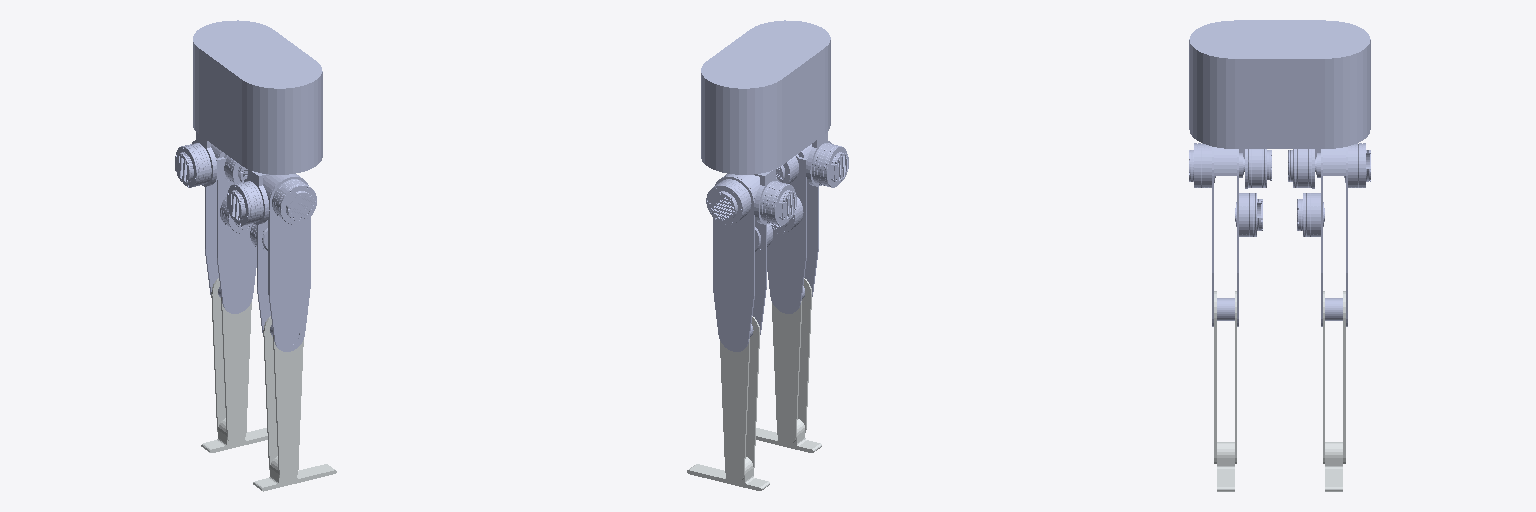
URDF robot description (leg7):
<?xml version="1.0" encoding="utf-8"?>
<!-- This URDF was automatically created by SolidWorks to URDF Exporter! Originally created by [author] ([email redacted]) 
     Commit Version: 1.6.0-4-g7f85cfe  Build Version: 1.6.7995.38578
     For more information, please see http://wiki.ros.org/sw_urdf_exporter -->
<robot
  name="leg7">
  <link
    name="base">
    <inertial>
      <origin
        xyz="-7.027E-14 -3.9404E-13 0.058682"
        rpy="0 0 0" />
      <mass
        value="8.0" />
      <inertia
        ixx="0.164672"
        ixy="0.000011"
        ixz="0"
        iyy="0.078139"
        iyz="0"
        izz="0.152254" />
    </inertial>
    <visual>
      <origin
        xyz="0 0 0"
        rpy="0 0 0" />
      <geometry>
        <mesh
          filename="meshes/base.STL" />
      </geometry>
      <material
        name="">
        <color
          rgba="0.79216 0.81961 0.93333 1" />
      </material>
    </visual>
    <collision>
      <origin
        xyz="0 0 0"
        rpy="0 0 0" />
      <geometry>
        <mesh
          filename="meshes/base.STL" />
      </geometry>
    </collision>
  </link>
  <link
    name="R_hip">
    <inertial>
      <origin
        xyz="-0.093816 -5.9543E-05 -0.064188"
        rpy="0 0 0" />
      <mass
        value="1.3589" />
      <inertia
        ixx="0.002069"
        ixy="-2.71E-06"
        ixz="-0.000414"
        iyy="0.00199"
        iyz="-2.6E-07"
        izz="0.0015048" />
    </inertial>
    <visual>
      <origin
        xyz="0 0 0"
        rpy="0 0 0" />
      <geometry>
        <mesh
          filename="meshes/R_hip.STL" />
      </geometry>
      <material
        name="">
        <color
          rgba="0.79216 0.81961 0.93333 1" />
      </material>
    </visual>
  </link>
  <joint
    name="R_hip_joint"
    type="revolute">
    <origin
      xyz="0 -0.12 -0.057"
      rpy="0 0 0" />
    <parent
      link="base" />
    <child
      link="R_hip" />
    <axis
      xyz="0 0 1" />
    <limit
      lower="-1.5"
      upper="1.5"
      effort="500"
      velocity="50" />
    <dynamics damping="0.0" friction="0.0" rotor_inertia="0.01188"/>
  </joint>
  <link
    name="R_hip2">
    <inertial>
      <origin
        xyz="0.05961 0.064582 5.875E-05"
        rpy="0 0 0" />
      <mass
        value="1.3256" />
      <inertia
        ixx="0.001232"
        ixy="-0.00022"
        ixz="-1E-06"
        iyy="0.001819"
        iyz="-2E-06"
        izz="0.001515" />
    </inertial>
    <visual>
      <origin
        xyz="0 0 0"
        rpy="0 0 0" />
      <geometry>
        <mesh
          filename="meshes/R_hip2.STL" />
      </geometry>
      <material
        name="">
        <color
          rgba="0.79216 0.81961 0.93333 1" />
      </material>
    </visual>
  </link>
  <joint
    name="R_hip2_joint"
    type="revolute">
    <origin
      xyz="-0.0633 0 -0.07"
      rpy="0 0 0" />
    <parent
      link="R_hip" />
    <child
      link="R_hip2" />
    <axis
      xyz="1 0 0" />
    <limit
      lower="-1"
      upper="0.5"
      effort="500"
      velocity="50" />
    <dynamics damping="0.0" friction="0.0" rotor_inertia="0.01188"/>
  </joint>
  <link
    name="R_thigh">
    <inertial>
      <origin
        xyz="1.4759E-14 -0.00035614 -0.11733"
        rpy="0 0 0" />
      <mass
        value="3.3" />
      <inertia
        ixx="0.054972"
        ixy="7E-06"
        ixz="-5E-06"
        iyy="0.05152"
        iyz="0.005096"
        izz="0.007973" />
    </inertial>
    <visual>
      <origin
        xyz="0 0 0"
        rpy="0 0 0" />
      <geometry>
        <mesh
          filename="meshes/R_thigh.STL" />
      </geometry>
      <material
        name="">
        <color
          rgba="0.79216 0.81961 0.93333 1" />
      </material>
    </visual>
        <collision>
      <origin
        xyz="0 0 0"
        rpy="0 0 0" />
      <geometry>
        <mesh
          filename="meshes/R_thigh.STL" />
      </geometry>
    </collision>
  </link>
  <joint
    name="R_thigh_joint"
    type="revolute">
    <origin
      xyz="0.0633 0 0"
      rpy="0 0 0" />
    <parent
      link="R_hip2" />
    <child
      link="R_thigh" />
    <axis
      xyz="0 1 0" />
    <limit
      lower="-1.7"
      upper="0"
      effort="500"
      velocity="50" />
    <dynamics damping="0.0" friction="0.0" rotor_inertia="0.0198"/>
  </joint>
  <link
    name="R_calf">
    <inertial>
      <origin
        xyz="0 0 -0.18354"
        rpy="0 0 0" />
      <mass
        value="0.75" />
      <inertia
        ixx="0.010955"
        ixy="0"
        ixz="0"
        iyy="0.010865"
        iyz="0"
        izz="0.000614" />
    </inertial>
    <visual>
      <origin
        xyz="0 0 0"
        rpy="0 0 0" />
      <geometry>
        <mesh
          filename="meshes/R_calf.STL" />
      </geometry>
      <material
        name="">
        <color
          rgba="0.89804 0.91765 0.92941 1" />
      </material>
    </visual>
    <collision>
      <origin
        xyz="0 0 0"
        rpy="0 0 0" />
      <geometry>
        <mesh
          filename="meshes/R_calf.STL" />
      </geometry>
    </collision>
  </link>
  <joint
    name="R_calf_joint"
    type="revolute">
    <origin
      xyz="0 0 -0.35"
      rpy="0 0 0" />
    <parent
      link="R_thigh" />
    <child
      link="R_calf" />
    <axis
      xyz="0 1 0" />
    <limit
      lower="0"
      upper="2"
      effort="500"
      velocity="50" />
    <dynamics damping="0.0" friction="0.0" rotor_inertia="0.0792"/>
  </joint>
  <link
    name="R_toe">
    <inertial>
      <origin
        xyz="0.016891 0 -0.018446"
        rpy="0 0 0" />
      <mass
        value="0.4" />
      <inertia
        ixx="0.000165"
        ixy="0"
        ixz="0.000078"
        iyy="0.000979"
        iyz="0"
        izz="0.000920" />
    </inertial>
    <visual>
      <origin
        xyz="0 0 0"
        rpy="0 0 0" />
      <geometry>
        <mesh
          filename="meshes/R_toe.STL" />
      </geometry>
      <material
        name="">
        <color
          rgba="0.89804 0.91765 0.92941 1" />
      </material>
    </visual>
    <collision>
      <origin
        xyz="0 0 0"
        rpy="0 0 0" />
      <geometry>
        <mesh
          filename="meshes/R_toe.STL" />
      </geometry>
    </collision>
  </link>
  <joint
    name="R_toe_joint"
    type="revolute">
    <origin
      xyz="0 0 -0.35"
      rpy="0 0 0" />
    <parent
      link="R_calf" />
    <child
      link="R_toe" />
    <axis
      xyz="0 1 0" />
    <limit
      lower="-0.8"
      upper="0.8"
      effort="500"
      velocity="50" />
    <dynamics damping="0.0" friction="0.0" rotor_inertia="0.04752"/>
  </joint>
  <link
    name="L_hip">
    <inertial>
      <origin
        xyz="-0.093816 -5.9543E-05 -0.064188"
        rpy="0 0 0" />
      <mass
        value="1.3589" />
      <inertia
        ixx="0.002069"
        ixy="-2.71E-06"
        ixz="-0.000414"
        iyy="0.00199"
        iyz="-2.6E-07"
        izz="0.0015048" />
    </inertial>
    <visual>
      <origin
        xyz="0 0 0"
        rpy="0 0 0" />
      <geometry>
        <mesh
          filename="meshes/L_hip.STL" />
      </geometry>
      <material
        name="">
        <color
          rgba="0.79216 0.81961 0.93333 1" />
      </material>
    </visual>
  </link>
  <joint
    name="L_hip_joint"
    type="revolute">
    <origin
      xyz="0 0.12 -0.057"
      rpy="0 0 0" />
    <parent
      link="base" />
    <child
      link="L_hip" />
    <axis
      xyz="0 0 1" />
    <limit
      lower="-1.5"
      upper="1.5"
      effort="500"
      velocity="50" />
    <dynamics damping="0.0" friction="0.0" rotor_inertia="0.01188"/>
  </joint>
  <link
    name="L_hip2">
    <inertial>
      <origin
        xyz="0.059646 -0.064582 5.875E-05"
        rpy="0 0 0" />
      <mass
        value="1.3256" />
      <inertia
        ixx="0.001232"
        ixy="0.00022"
        ixz="6.3E-07"
        iyy="0.001819"
        iyz="2.44E-06"
        izz="0.001515" />
    </inertial>
    <visual>
      <origin
        xyz="0 0 0"
        rpy="0 0 0" />
      <geometry>
        <mesh
          filename="meshes/L_hip2.STL" />
      </geometry>
      <material
        name="">
        <color
          rgba="0.79216 0.81961 0.93333 1" />
      </material>
    </visual>
  </link>
  <joint
    name="L_hip2_joint"
    type="revolute">
    <origin
      xyz="-0.0633 0 -0.07"
      rpy="0 0 0" />
    <parent
      link="L_hip" />
    <child
      link="L_hip2" />
    <axis
      xyz="1 0 0" />
    <limit
      lower="-0.5"
      upper="1"
      effort="500"
      velocity="50" />
    <dynamics damping="0.0" friction="0.0" rotor_inertia="0.01188"/>
  </joint>
  <link
    name="L_thigh">
    <inertial>
      <origin
        xyz="-4.3348E-13 0.00035614 -0.11733"
        rpy="0 0 0" />
      <mass
        value="3.3" />
      <inertia
        ixx="0.054972"
        ixy="7E-06"
        ixz="5E-06"
        iyy="0.05152"
        iyz="-0.005096"
        izz="0.007973" />
    </inertial>
    <visual>
      <origin
        xyz="0 0 0"
        rpy="0 0 0" />
      <geometry>
        <mesh
          filename="meshes/L_thigh.STL" />
      </geometry>
      <material
        name="">
        <color
          rgba="0.79216 0.81961 0.93333 1" />
      </material>
    </visual>
    <collision>
      <origin
        xyz="0 0 0"
        rpy="0 0 0" />
      <geometry>
        <mesh
          filename="meshes/L_thigh.STL" />
      </geometry>
    </collision>
  </link>
  <joint
    name="L_thigh_joint"
    type="revolute">
    <origin
      xyz="0.0633 0 0"
      rpy="0 0 0" />
    <parent
      link="L_hip2" />
    <child
      link="L_thigh" />
    <axis
      xyz="0 1 0" />
    <limit
      lower="-1.7"
      upper="0"
      effort="500"
      velocity="50" />
    <dynamics damping="0.0" friction="0.0" rotor_inertia="0.0198"/>
  </joint>
  <link
    name="L_calf">
    <inertial>
      <origin
        xyz="0 0 -0.18354"
        rpy="0 0 0" />
      <mass
        value="0.75" />
      <inertia
        ixx="0.010955"
        ixy="0"
        ixz="0"
        iyy="0.010865"
        iyz="0"
        izz="0.000614" />
    </inertial>
    <visual>
      <origin
        xyz="0 0 0"
        rpy="0 0 0" />
      <geometry>
        <mesh
          filename="meshes/L_calf.STL" />
      </geometry>
      <material
        name="">
        <color
          rgba="0.89804 0.91765 0.92941 1" />
      </material>
    </visual>
    <collision>
      <origin
        xyz="0 0 0"
        rpy="0 0 0" />
      <geometry>
        <mesh
          filename="meshes/L_calf.STL" />
      </geometry>
    </collision>
  </link>
  <joint
    name="L_calf_joint"
    type="revolute">
    <origin
      xyz="0 0 -0.35"
      rpy="0 0 0" />
    <parent
      link="L_thigh" />
    <child
      link="L_calf" />
    <axis
      xyz="0 1 0" />
    <limit
      lower="0"
      upper="2"
      effort="500"
      velocity="50" />
    <dynamics damping="0.0" friction="0.0" rotor_inertia="0.0792"/>
  </joint>
  <link
    name="L_toe">
    <inertial>
      <origin
        xyz="0.016891 0 -0.018446"
        rpy="0 0 0" />
      <mass
        value="0.4" />
      <inertia
        ixx="0.000165"
        ixy="0"
        ixz="0.000078"
        iyy="0.000979"
        iyz="0"
        izz="0.000920" />
    </inertial>
    <visual>
      <origin
        xyz="0 0 0"
        rpy="0 0 0" />
      <geometry>
        <mesh
          filename="meshes/L_toe.STL" />
      </geometry>
      <material
        name="">
        <color
          rgba="0.89804 0.91765 0.92941 1" />
      </material>
    </visual>
    <collision>
      <origin
        xyz="0 0 0"
        rpy="0 0 0" />
      <geometry>
        <mesh
          filename="meshes/L_toe.STL" />
      </geometry>
    </collision>
  </link>
  <joint
    name="L_toe_joint"
    type="revolute">
    <origin
      xyz="0 0 -0.35"
      rpy="0 0 0" />
    <parent
      link="L_calf" />
    <child
      link="L_toe" />
    <axis
      xyz="0 1 0" />
    <limit
      lower="-0.8"
      upper="0.8"
      effort="500"
      velocity="50" />
    <dynamics damping="0.0" friction="0.0" rotor_inertia="0.04752"/>
  </joint>
</robot>

--- Render facts (derived) ---
Views: 3 orthographic renders of the robot side by side, from view 1: azimuth 30°, elevation 25°; view 2: azimuth 150°, elevation 25°; view 3: azimuth 270°, elevation 25°.
Robot: leg7 — 11 links, 10 joints (10 revolute); root link base; default pose: every joint at zero.
Links seen in each view (by area): view 1: base, R_thigh, L_thigh, R_calf, L_calf, R_hip, L_hip, R_toe, L_toe, L_hip2; view 2: base, L_thigh, R_thigh, R_calf, L_calf, L_hip, R_hip, L_toe, R_toe, R_hip2; view 3: base, R_thigh, L_thigh, L_hip2, R_hip2, R_toe, L_toe, R_calf, L_calf.
Link boxes in pixels (bbox=[...]): base: bbox=[193, 20, 322, 174]; R_thigh: bbox=[250, 174, 316, 351]; L_thigh: bbox=[205, 144, 256, 313]; R_calf: bbox=[263, 316, 303, 482]; L_calf: bbox=[211, 278, 251, 444]; R_hip: bbox=[227, 169, 269, 225]; L_hip: bbox=[175, 132, 217, 187]; R_toe: bbox=[253, 456, 336, 491]; L_toe: bbox=[201, 418, 267, 452]; L_hip2: bbox=[216, 154, 247, 183]; base: bbox=[701, 20, 830, 174]; L_thigh: bbox=[706, 174, 772, 351]; R_thigh: bbox=[767, 144, 818, 313]; R_calf: bbox=[772, 278, 811, 444]; L_calf: bbox=[720, 316, 759, 482]; L_hip: bbox=[754, 169, 796, 225]; R_hip: bbox=[806, 132, 848, 187]; L_toe: bbox=[687, 457, 769, 490]; R_toe: bbox=[756, 419, 821, 452]; R_hip2: bbox=[776, 154, 807, 183]; base: bbox=[1189, 20, 1370, 148]; R_thigh: bbox=[1189, 143, 1262, 326]; L_thigh: bbox=[1297, 143, 1370, 326]; L_hip2: bbox=[1288, 149, 1320, 188]; R_hip2: bbox=[1239, 149, 1271, 188]; R_toe: bbox=[1217, 442, 1234, 491]; L_toe: bbox=[1325, 442, 1342, 491]; R_calf: bbox=[1214, 291, 1236, 463]; L_calf: bbox=[1323, 291, 1345, 463].
Bounding box of the posed robot: 0.263 × 0.4038 × 1.04 m (x, y, z).
11 mesh visuals loaded from 11 distinct referenced files (11 binary STL).